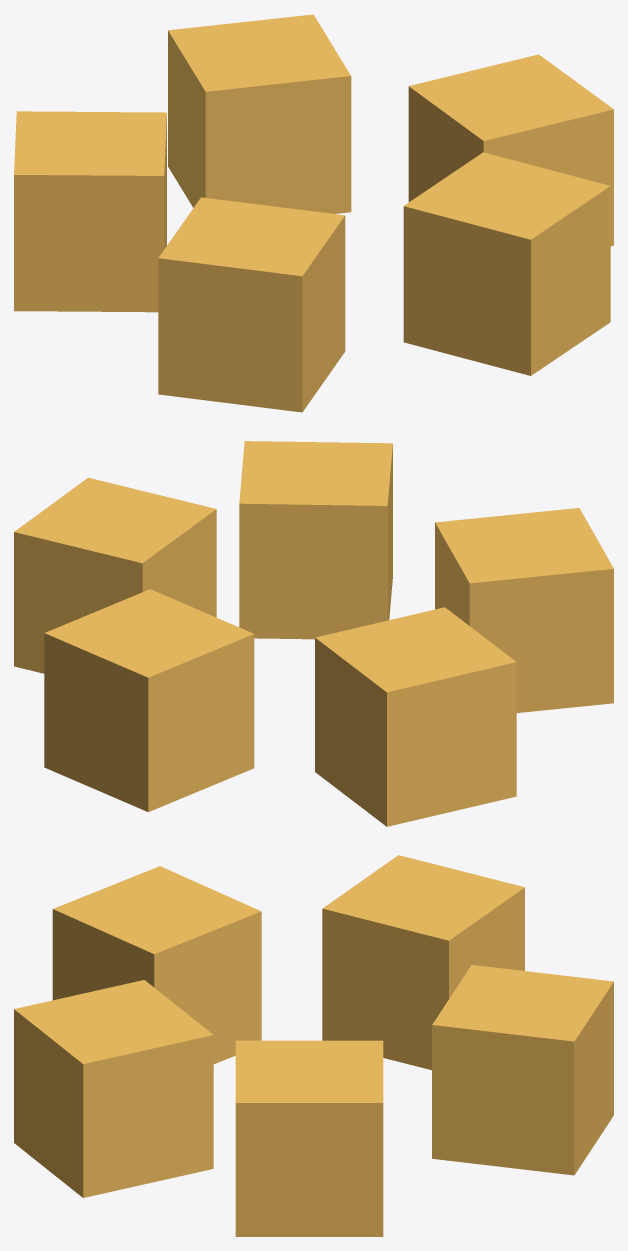
The model's file is TopMango.fbx.
The picture shows the model from 3 angles, top to bottom: view 1: azimuth 30°, elevation 25°; view 2: azimuth 150°, elevation 25°; view 3: azimuth 270°, elevation 25°; orthographic projection.
Visible parts, largest first — view 1: TopMango; view 2: TopMango; view 3: TopMango.
Boxes of the visible parts, x1,y1,x2,y2 form: TopMango: (14, 14, 613, 412); TopMango: (14, 441, 613, 826); TopMango: (14, 855, 613, 1236).
Bounding box in the file's own units: 0.0794 × 0.02 × 0.0812.
